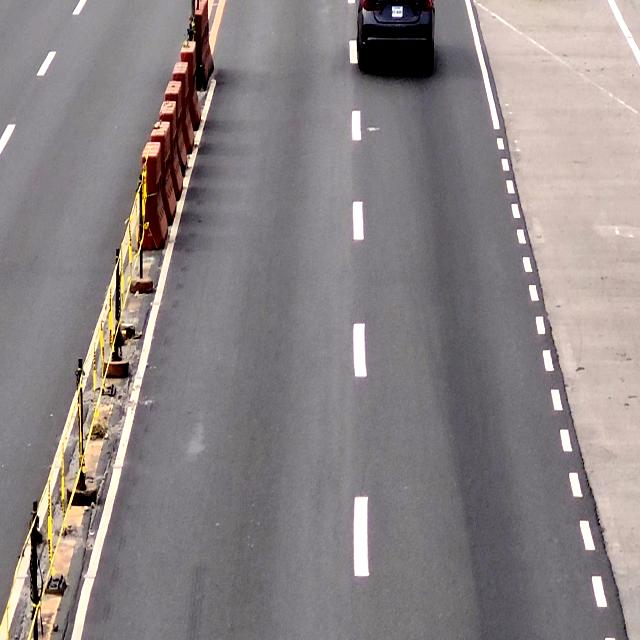Car: (356, 0, 436, 73)
